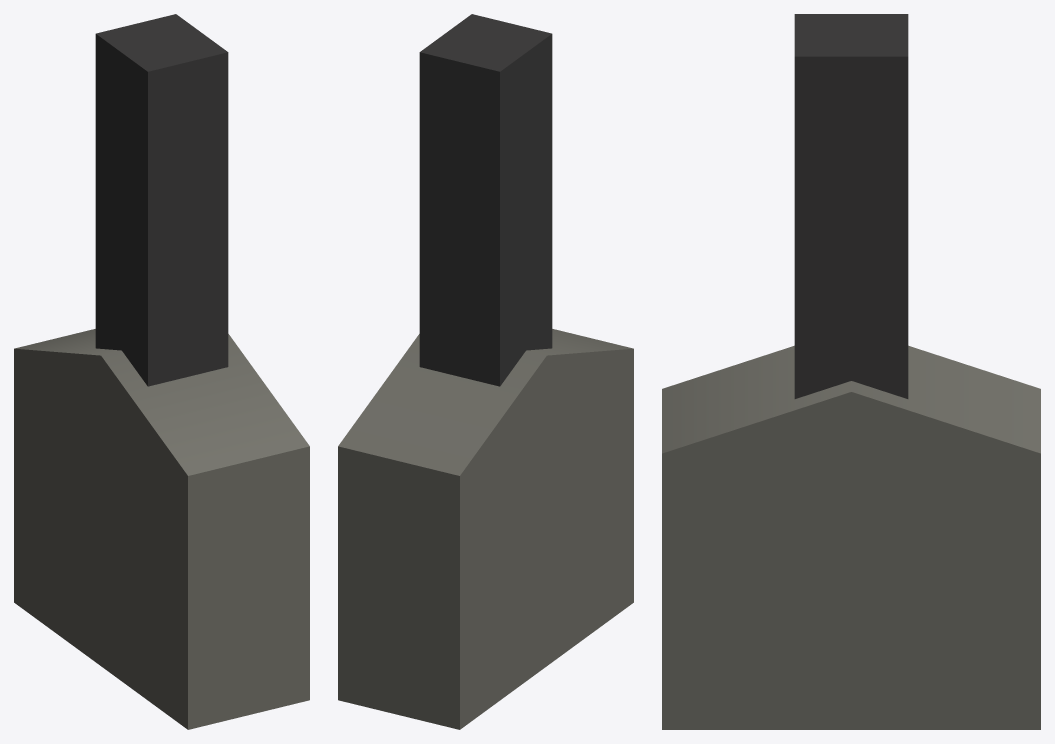
The model's file is pipeset1_stand.fbx.
3 renders of one model, left to right at view 1: azimuth 30°, elevation 25°; view 2: azimuth 150°, elevation 25°; view 3: azimuth 270°, elevation 25°, orthographic. The views are drawn at different scales.
Parts seen in each view (by area): view 1: pipeset1_stand; view 2: pipeset1_stand; view 3: pipeset1_stand.
Part boxes in pixels (x1=…): pipeset1_stand: x1=14, y1=14, x2=309, y2=729; pipeset1_stand: x1=338, y1=14, x2=633, y2=729; pipeset1_stand: x1=662, y1=14, x2=1040, y2=729.
Bounding box in the file's own units: 28.72 × 137 × 71.07.
